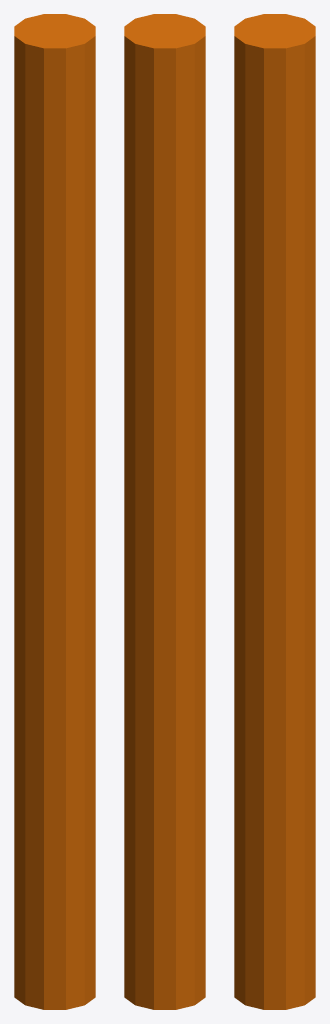
Rendered from orange_cylinderpillar.gltf.
3 renders of one model, left to right at view 1: azimuth 30°, elevation 25°; view 2: azimuth 150°, elevation 25°; view 3: azimuth 330°, elevation 25°, orthographic.
Visible parts, largest first — view 1: cylinder; view 2: cylinder; view 3: cylinder.
Part boxes in pixels (x1,y1,x2,y2): cylinder: (14,14,95,1009); cylinder: (124,14,205,1009); cylinder: (234,14,315,1009).
Bounding box in the file's own units: 0.075 × 0.977 × 0.075.
1 material, 1 textured.
